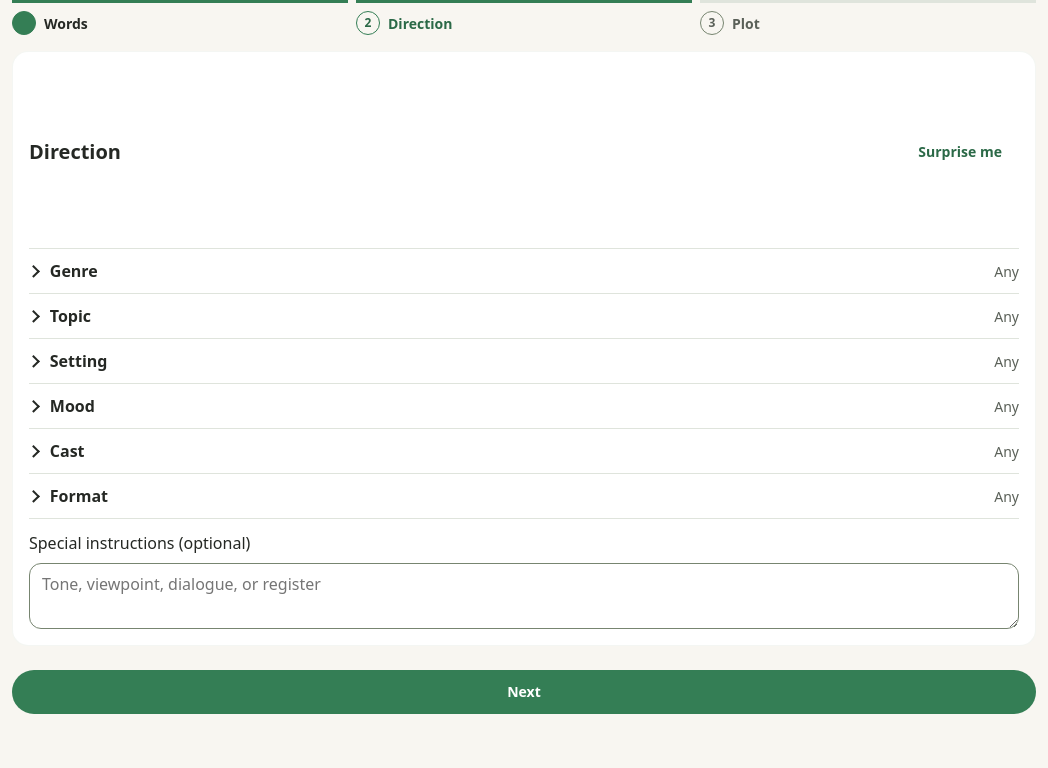
Test: StoryFormComponent › fills every axis from Surprise me and says so in each row
Click the button with test id "surprise-direction".
click(806, 152)  # box [593,68,1019,236]
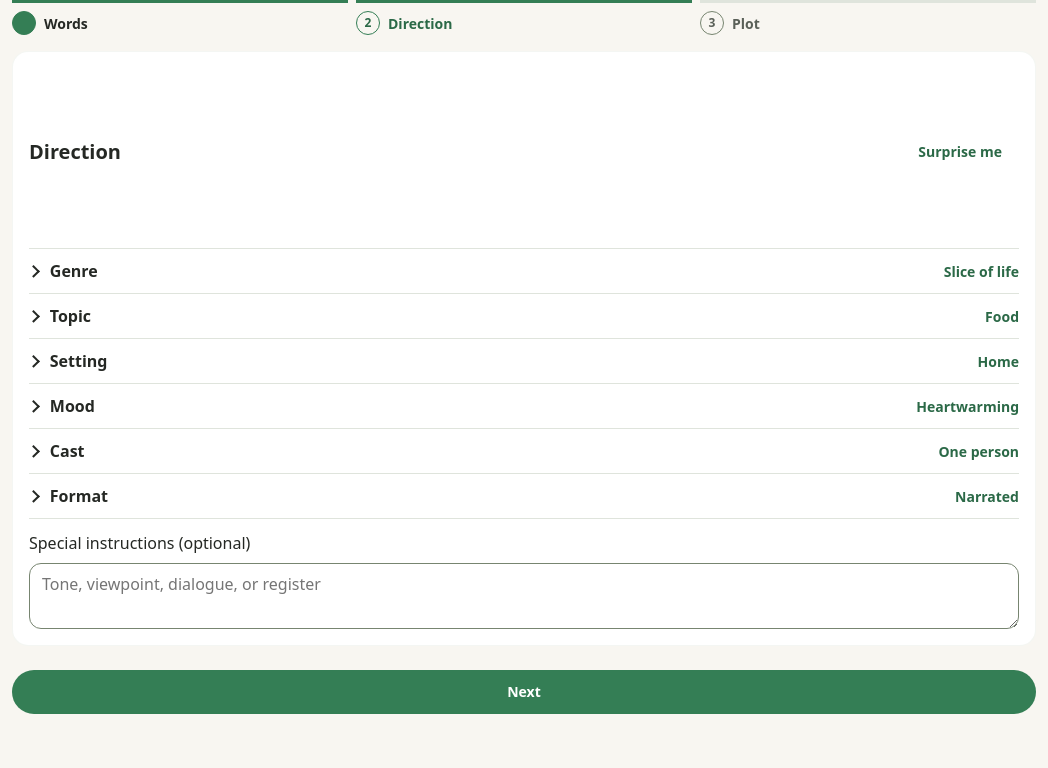
Check: the heading "Any" no longer shows "Any"
